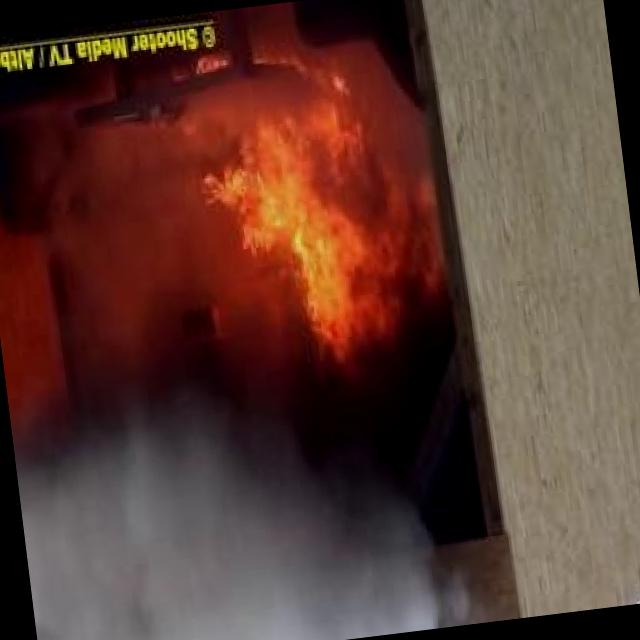fire: (178, 55, 454, 392)
